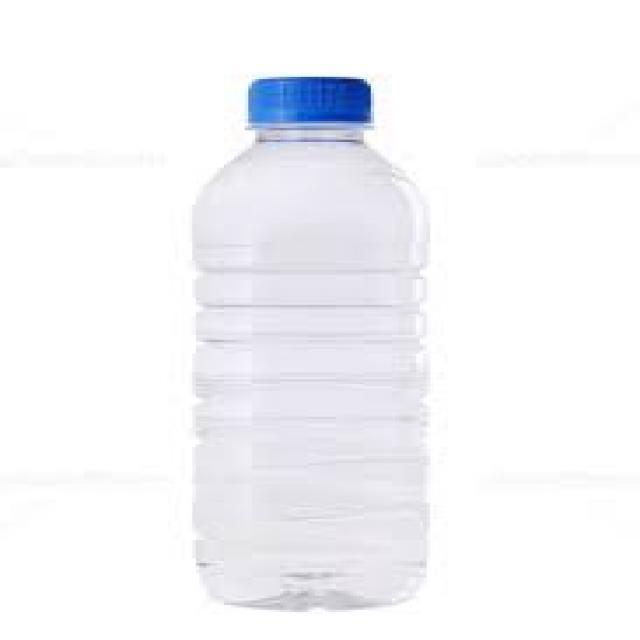Plastic: (188, 72, 424, 610)
